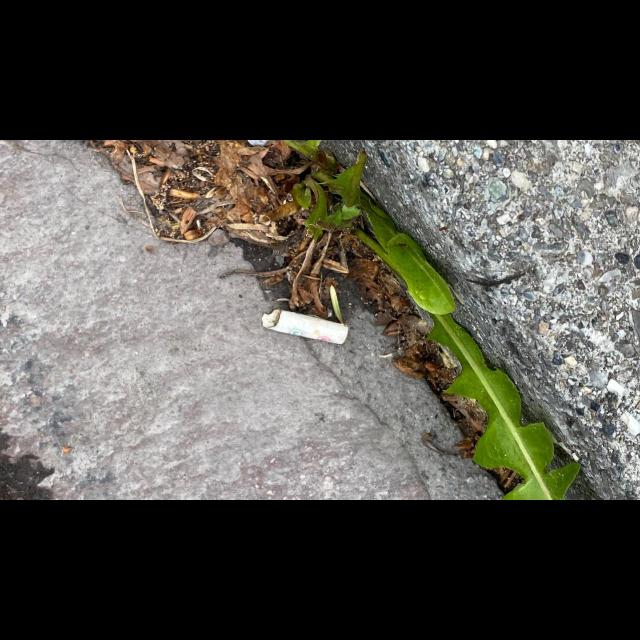cigarette: (260, 307, 348, 345)
